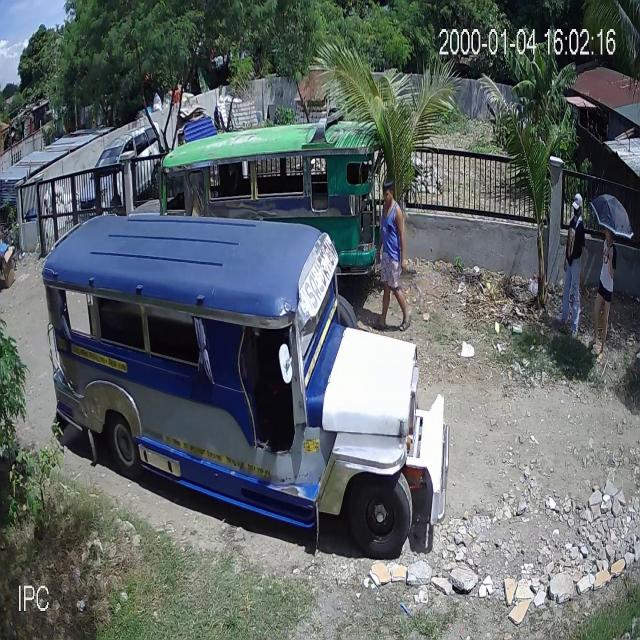standing: (556, 194, 588, 342)
walking: (372, 176, 414, 334), (589, 221, 616, 366)
